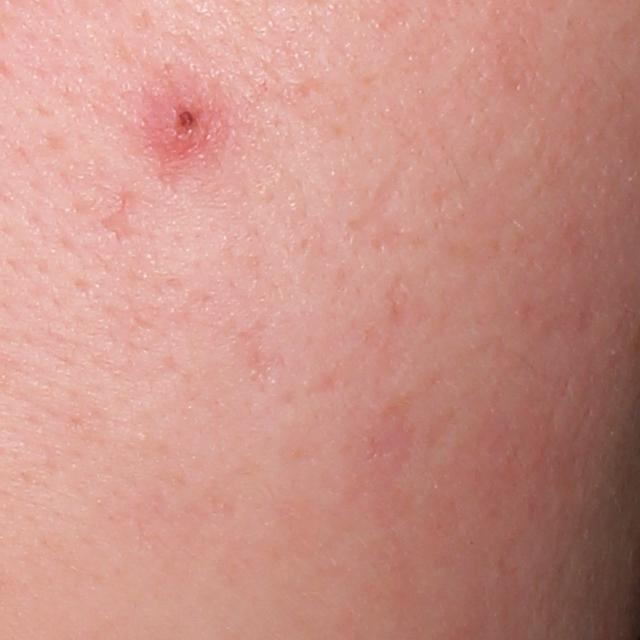atrophic_scar: (351, 159, 423, 254), (100, 191, 134, 247)
papule: (141, 79, 220, 170)
